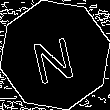N_N: (30, 26, 80, 84)
